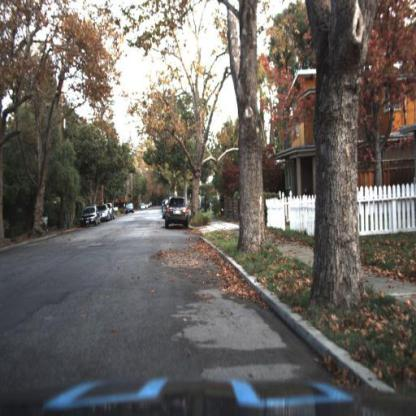car: (166, 195, 193, 232), (79, 204, 101, 229), (163, 202, 171, 228), (102, 205, 110, 225), (125, 203, 135, 217)
